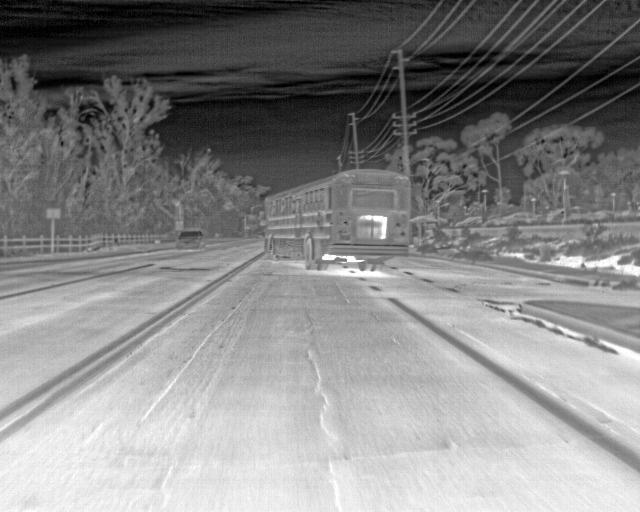car: (177, 229, 205, 251)
